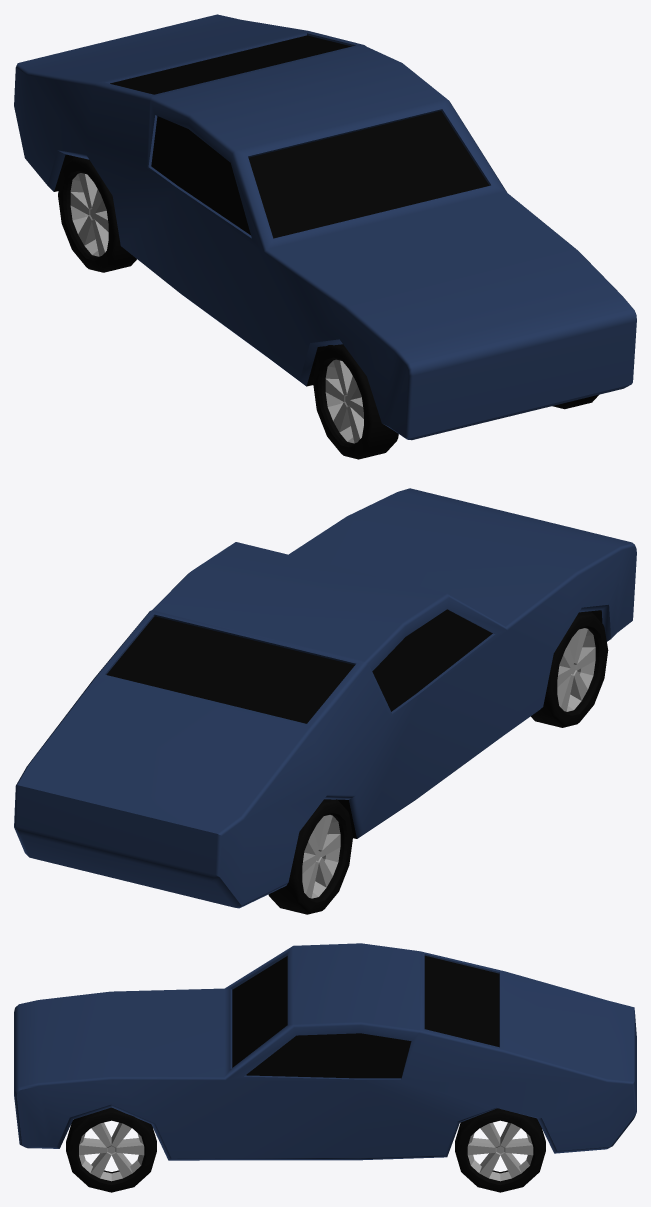
The model's file is caeeer.fbx.
3 views of the same model, one above another, from view 1: azimuth 30°, elevation 25°; view 2: azimuth 150°, elevation 25°; view 3: azimuth 270°, elevation 25° (orthographic). The views are drawn at different scales.
Visible parts, largest first — view 1: body, polySurface10, polySurface9; view 2: body, polySurface9, polySurface10; view 3: body, polySurface7, polySurface8.
Boxes of the visible parts, x1,y1,x2,y2 form: body: (14,14,636,440); polySurface10: (313,344,398,459); polySurface9: (58,157,136,272); body: (14,488,636,908); polySurface9: (268,799,352,914); polySurface10: (531,611,608,727); body: (14,943,636,1160); polySurface7: (455,1108,545,1192); polySurface8: (66,1107,156,1192).
Size of the model in its own units: 2.13 by 1.83 by 6.18.
